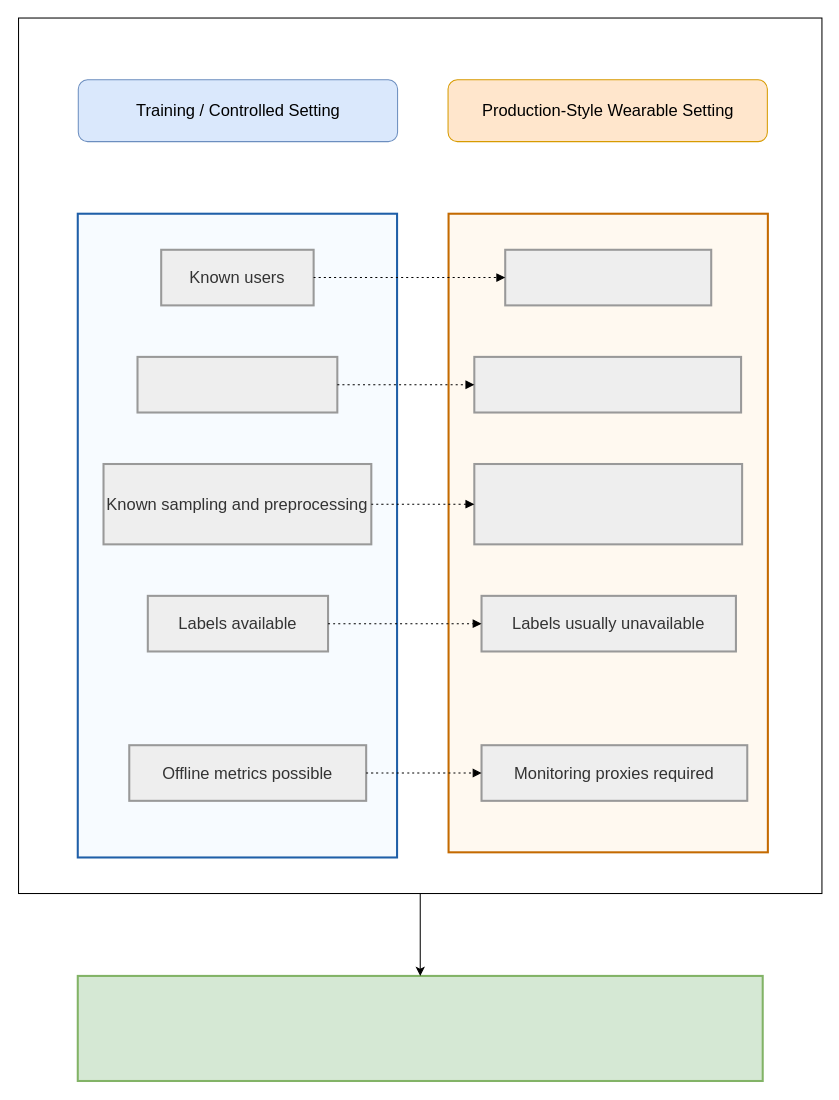
Image size: 839x1100. Some labels were removed from this diagram. The centre of each missing label's shape, as x and y in pixels:
"Device placement may shift" goes at [607,384].
"Fixed device setup" goes at [237,384].
"New user or session" goes at [608,277].
"Preprocessing mismatch possible" goes at [608,503].
"Same model ≠ same operating condition" goes at [419,1028].
